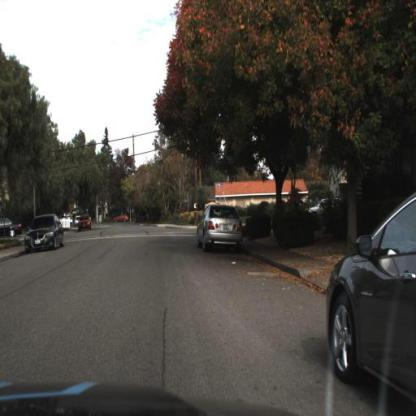car: (325, 186, 416, 416), (198, 203, 247, 254), (297, 184, 344, 227), (24, 214, 67, 254), (77, 210, 95, 234)
